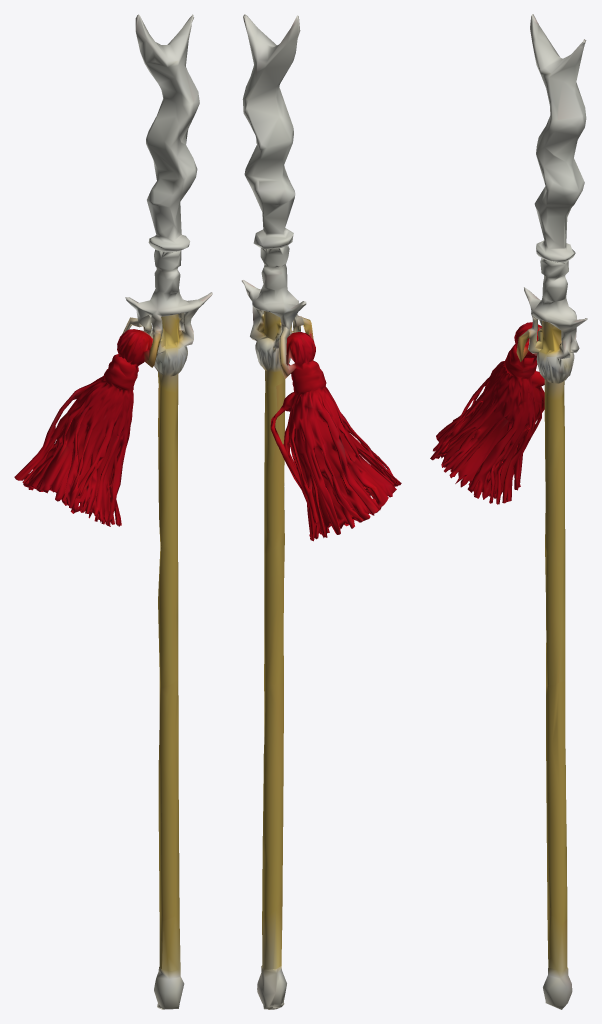
File: snake-zhangba.glb
The picture shows the model from 3 angles, left to right: view 1: azimuth 30°, elevation 25°; view 2: azimuth 150°, elevation 25°; view 3: azimuth 330°, elevation 25°; orthographic projection.
Parts seen in each view (by area): view 1: snake-zhangba; view 2: snake-zhangba; view 3: snake-zhangba.
Part boxes in pixels (left/top/right/bottom): snake-zhangba: left=14, top=14, right=212, bottom=1009; snake-zhangba: left=241, top=14, right=401, bottom=1009; snake-zhangba: left=430, top=14, right=587, bottom=1009.
Size of the model in its own units: 0.4555 by 2.6 by 0.2567.
